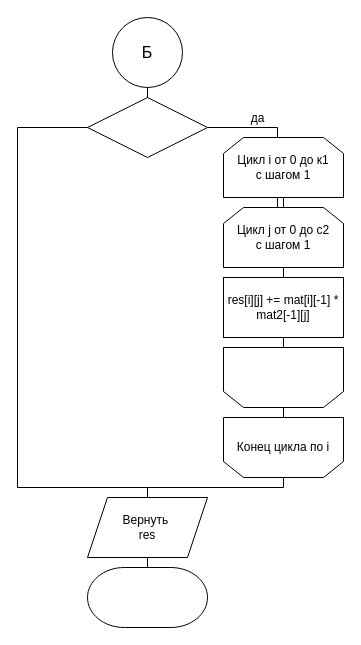
Image size: 361x645. Some labels were removed from this diagram. Here are the shapes that lost their labels. From the top down, the box of each, then its label:
(86, 96, 208, 158): с1 % 2 != 0
(222, 346, 344, 408): Конец цикла по j
(86, 566, 208, 628): Конец
